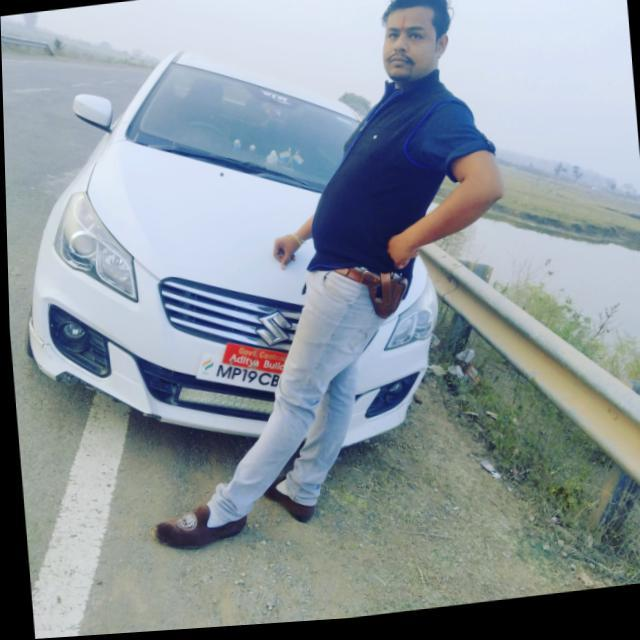weapon: (356, 270, 411, 328)
